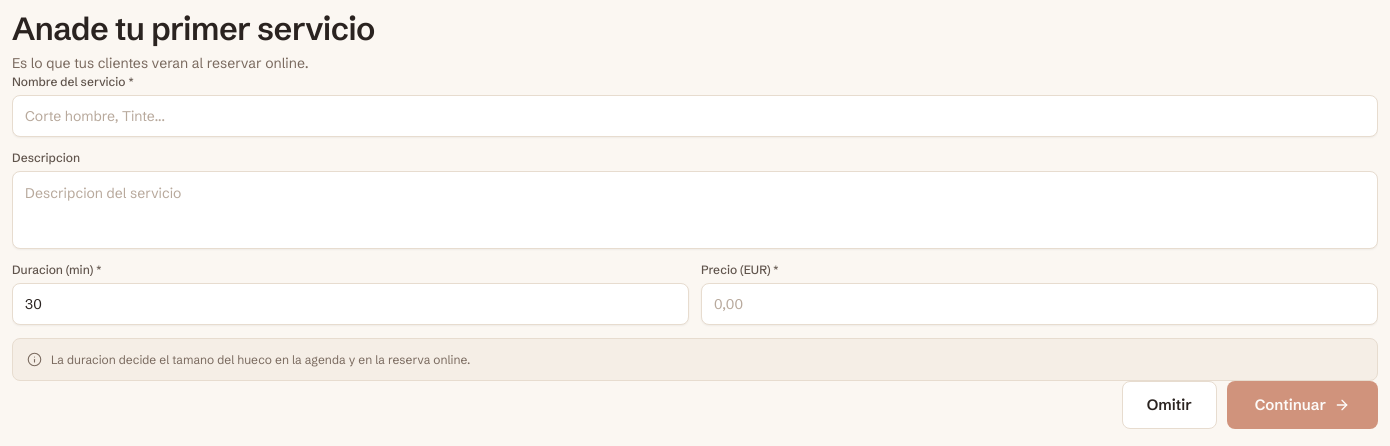
Test: AddServicePage › keeps 'Continuar' disabled until name and price are filled
Expected: the button "Continuar" is disabled, [1227,381,1378,429]
In the field with placeholder "Corte hombre, Tinte...": (695,116) [12,94,1378,136], type "Corte"
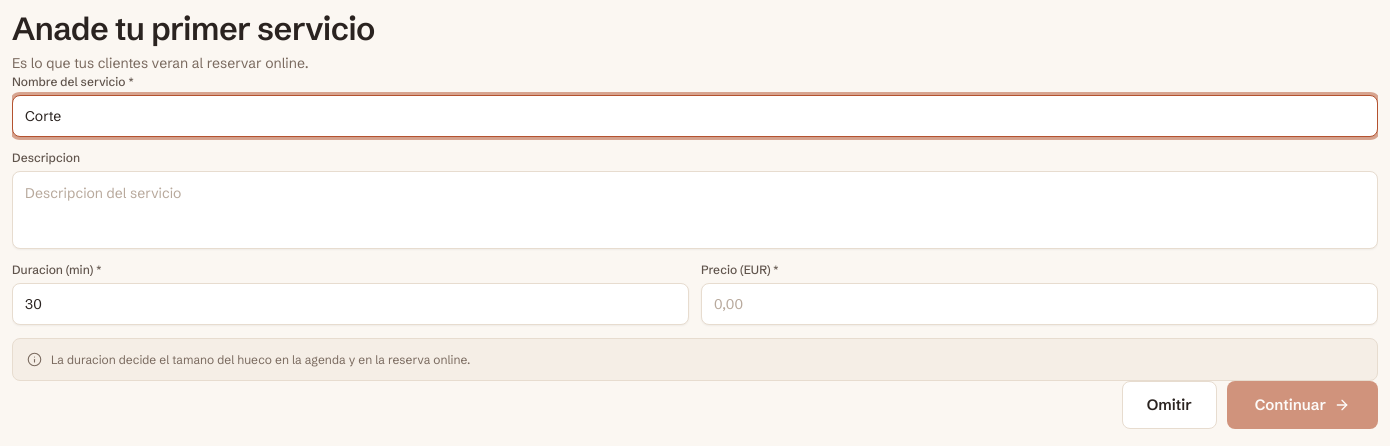
In the number field with placeholder "0,00": (1040,304) [701,282,1378,324], type "15"
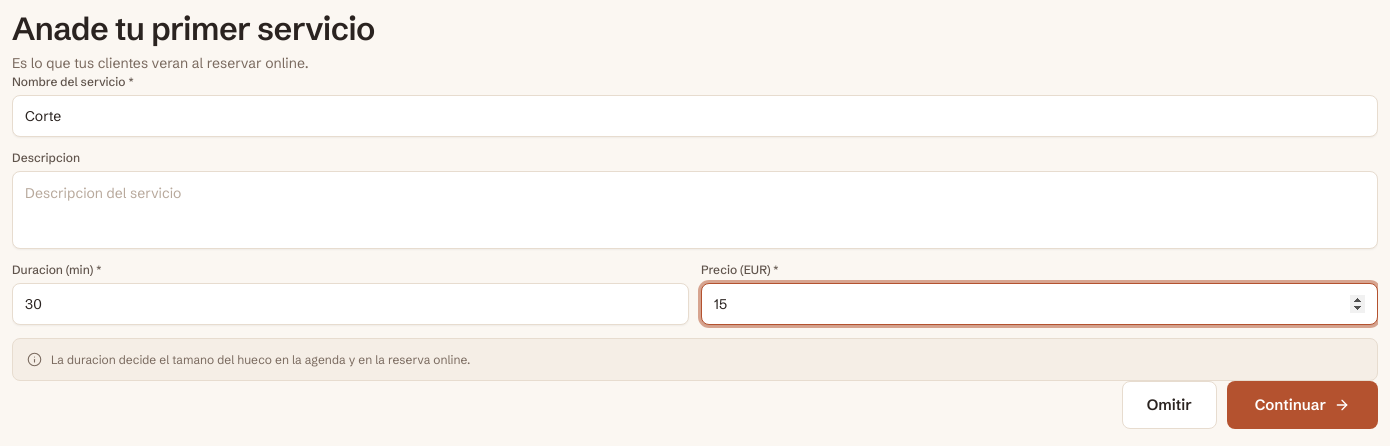
Expected: the button "Continuar" is enabled, [1227,381,1378,429]
